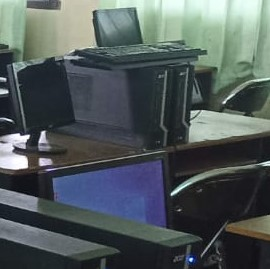monitor: (10, 56, 154, 151), (74, 7, 206, 64), (8, 55, 76, 135), (92, 7, 144, 47)
